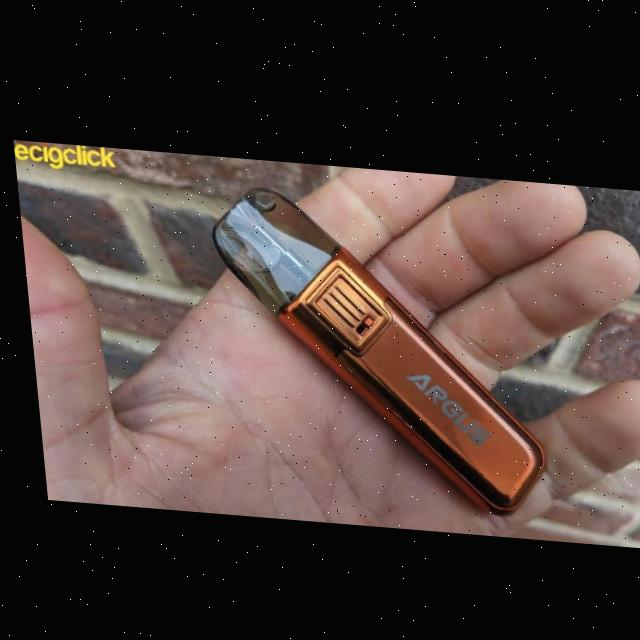vape: (204, 180, 543, 513)
